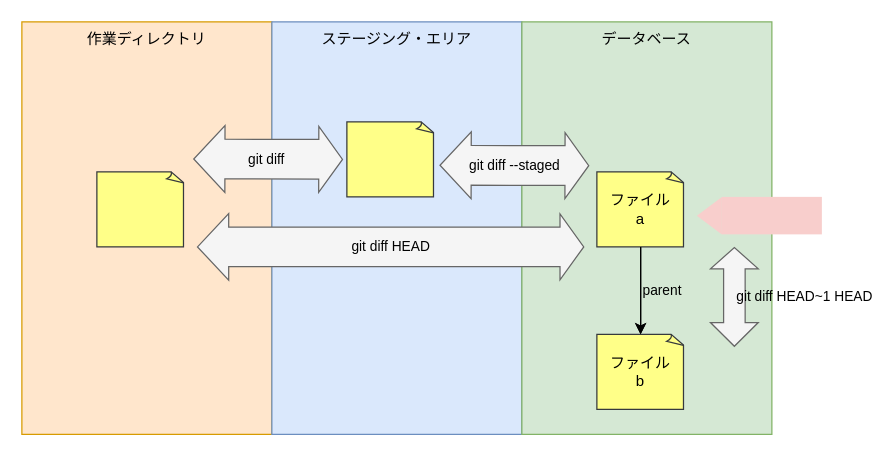
Image size: 895x456. Some labels were removed from this diagram. Here are the shapes that lost their labels. From the top down, the centre of each, then its label:
At pixel 390 159: "ファイル a´".
At pixel 140 209: "ファイル a´´".
At pixel 771 215: "HEAD".
